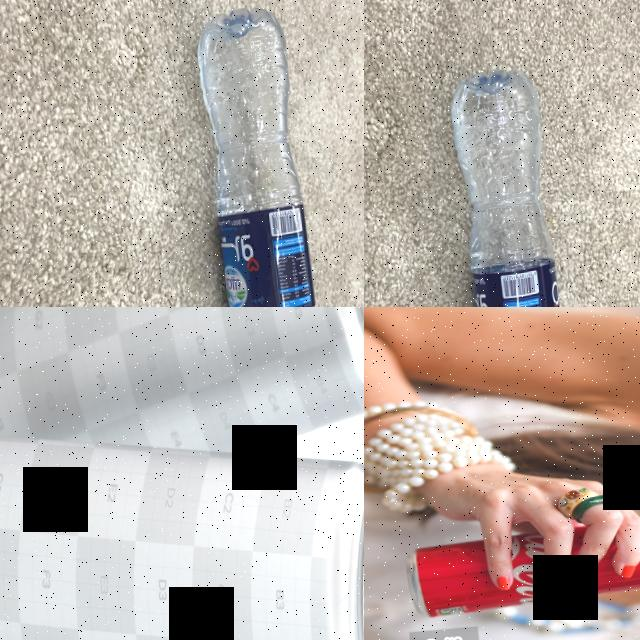bottle: (186, 0, 332, 307), (442, 61, 578, 307)
can: (0, 390, 364, 640), (0, 307, 364, 480), (401, 514, 640, 621)
